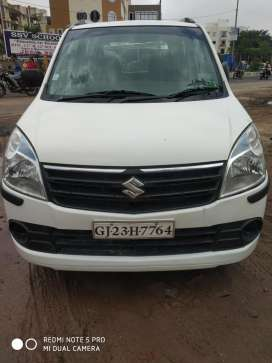license_plate: (93, 219, 179, 238)
